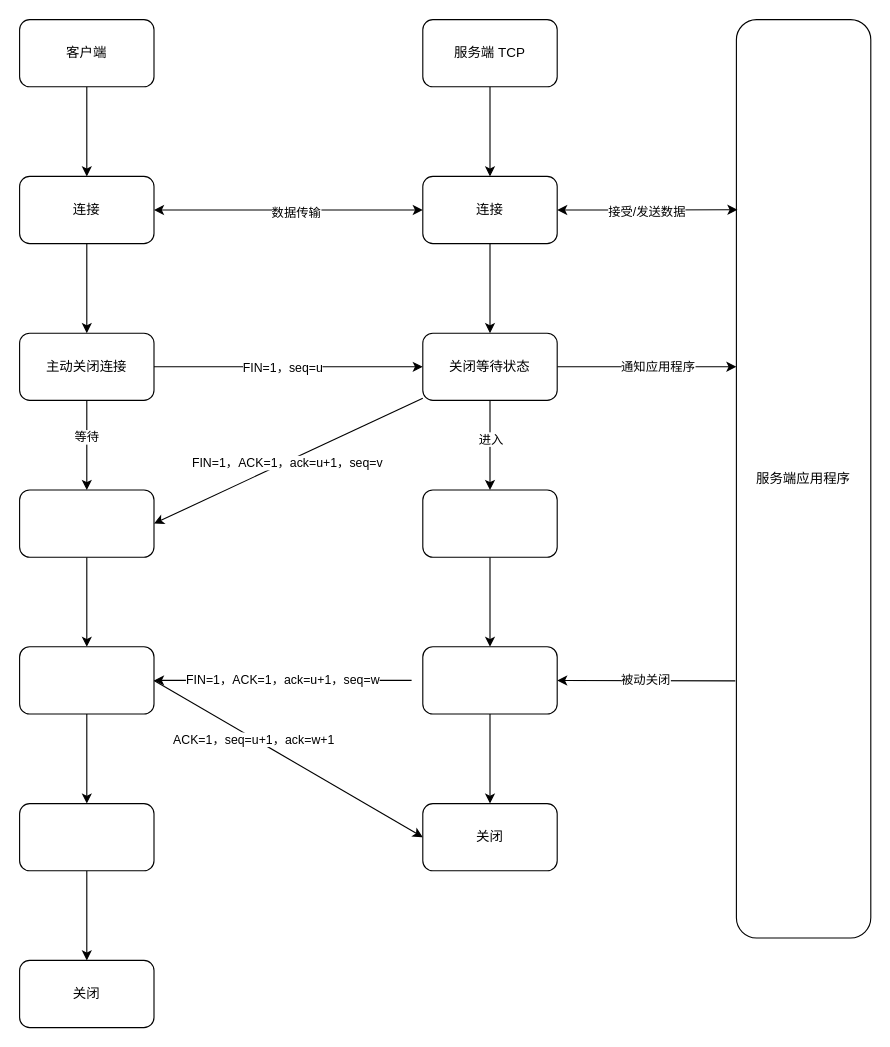
Image size: 890x1047. Some labels were removed from this diagram. The shapes that lost their labels are listed below. From the top down, each one's box as (x1, y1, x2, y2) in pixels, then its label:
(18, 489, 154, 557): 发送关闭确认状态
(422, 489, 557, 557): 等待发送关闭状态
(18, 646, 154, 714): 接收关闭确认状态
(422, 646, 557, 714): 等待关闭确认状态
(18, 802, 154, 871): 等待超时关闭
